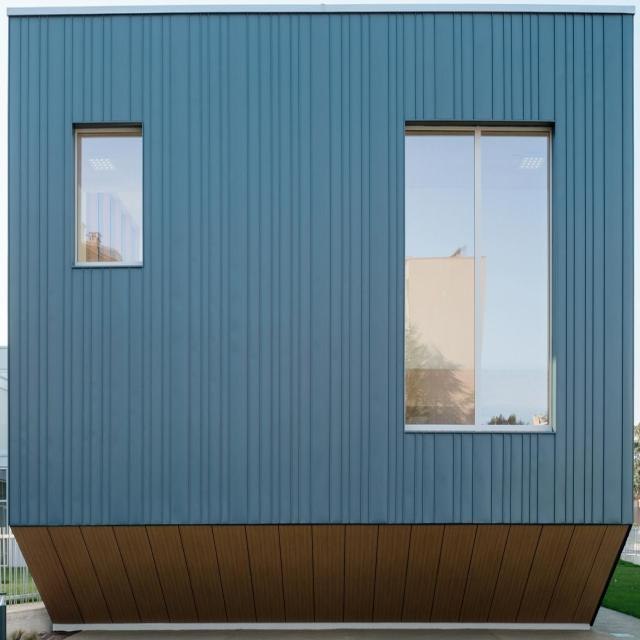window: (404, 121, 552, 435), (73, 126, 143, 265)
